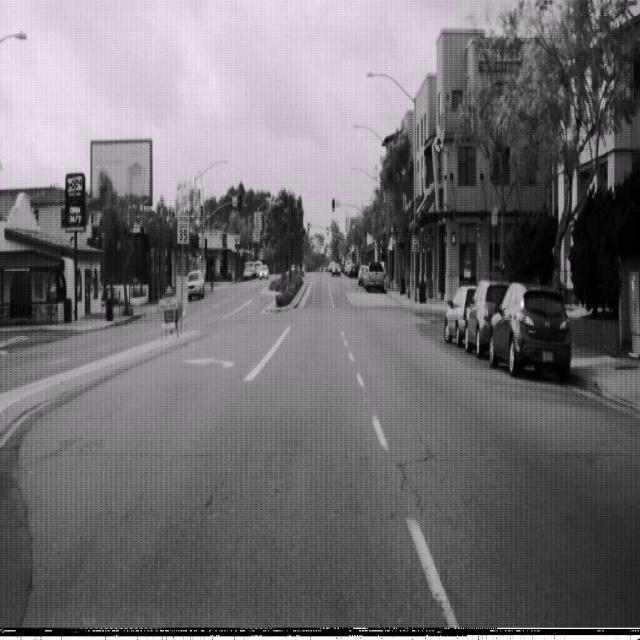speedLimit35: (177, 212, 190, 244), (412, 234, 419, 253)
